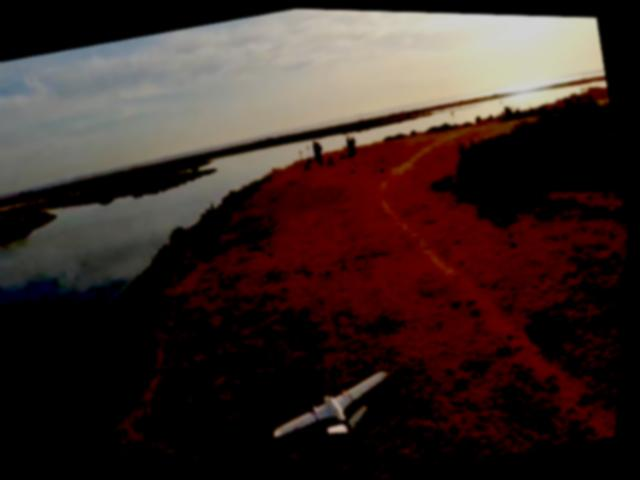uav: (267, 360, 407, 456)
